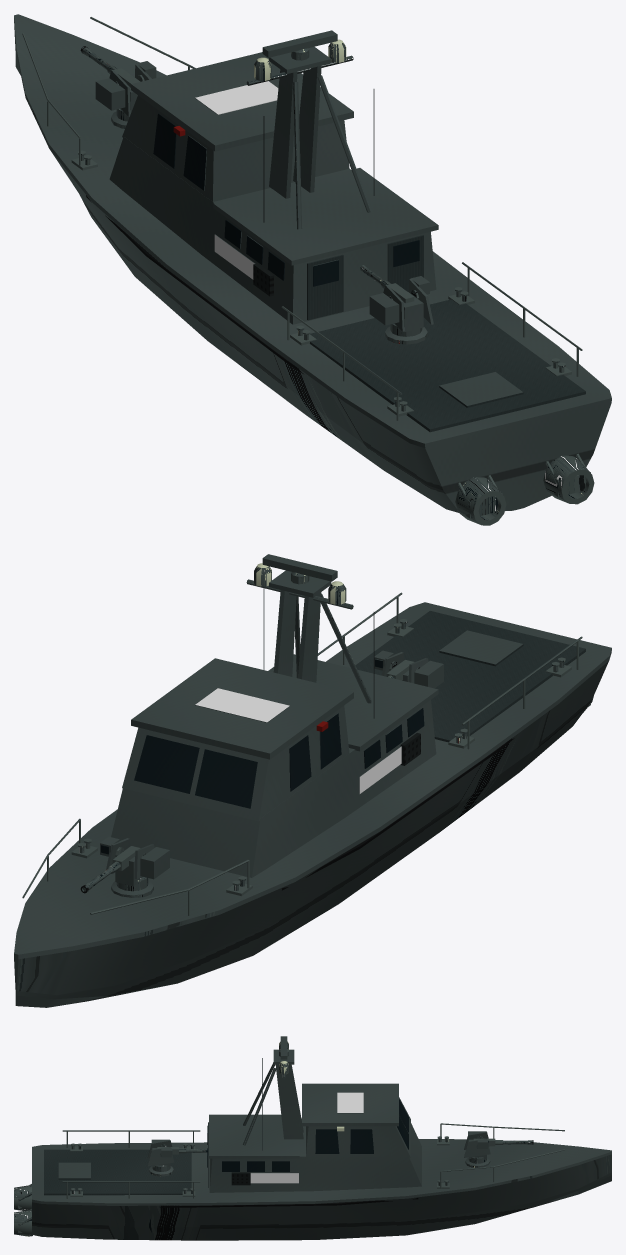
The model's file is patrol_boat_lod1.glb.
3 renders of one model, top to bottom at view 1: azimuth 30°, elevation 25°; view 2: azimuth 150°, elevation 25°; view 3: azimuth 270°, elevation 25°, orthographic. The views are drawn at different scales.
Visible parts, largest first — view 1: hull, superstructure, deck, mast, propulsion, fittings, aft_turret, turret; view 2: hull, superstructure, deck, mast, fittings, turret, aft_turret, cannon; view 3: hull, superstructure, deck, mast, fittings, propulsion, aft_turret, turret.
Part boxes in pixels (<box>): hull: <box>14,14,611,512</box>; superstructure: <box>109,52,438,324</box>; deck: <box>111,108,585,432</box>; mast: <box>173,30,374,229</box>; propulsion: <box>455,453,594,525</box>; fittings: <box>22,17,582,420</box>; aft_turret: <box>369,276,433,331</box>; turret: <box>95,61,156,116</box>; hull: <box>14,602,611,1007</box>; superstructure: <box>111,654,438,877</box>; deck: <box>111,611,585,897</box>; mast: <box>246,554,374,731</box>; fittings: <box>22,592,582,915</box>; turret: <box>100,836,169,886</box>; aft_turret: <box>374,650,443,688</box>; cannon: <box>80,846,140,893</box>; hull: <box>32,1139,611,1240</box>; superstructure: <box>207,1083,421,1192</box>; deck: <box>44,1149,490,1195</box>; mast: <box>243,1036,344,1150</box>; fittings: <box>62,1123,564,1198</box>; propulsion: <box>14,1184,32,1236</box>; aft_turret: <box>147,1139,174,1167</box>; turret: <box>464,1131,490,1158</box>.
Bounding box in the file's own units: 6.25 × 8.74 × 26.08.
Materials: 1 (1 with a texture image).
